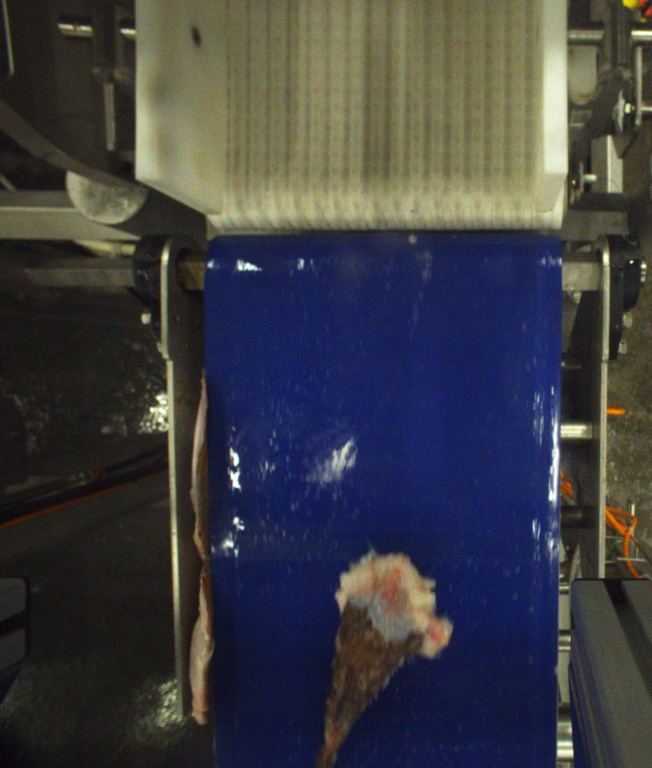ANF: (317, 550, 453, 768)
